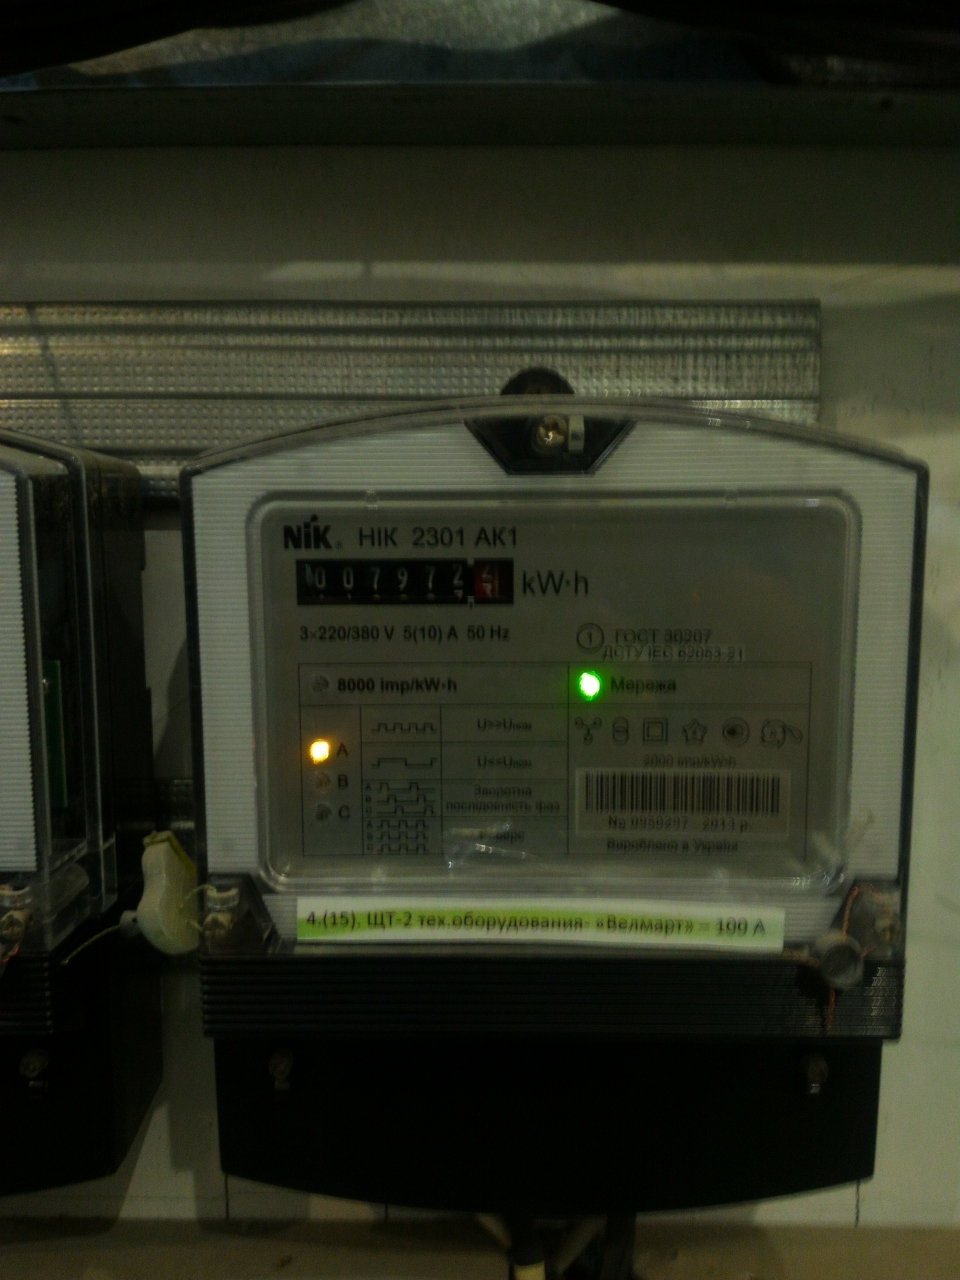0: (340, 565, 356, 590), (313, 565, 329, 589)
2: (450, 560, 467, 586)
7: (422, 563, 437, 591), (367, 565, 383, 591)
9: (395, 566, 410, 591)
screen: (285, 548, 526, 614)
x: (480, 561, 497, 598)
